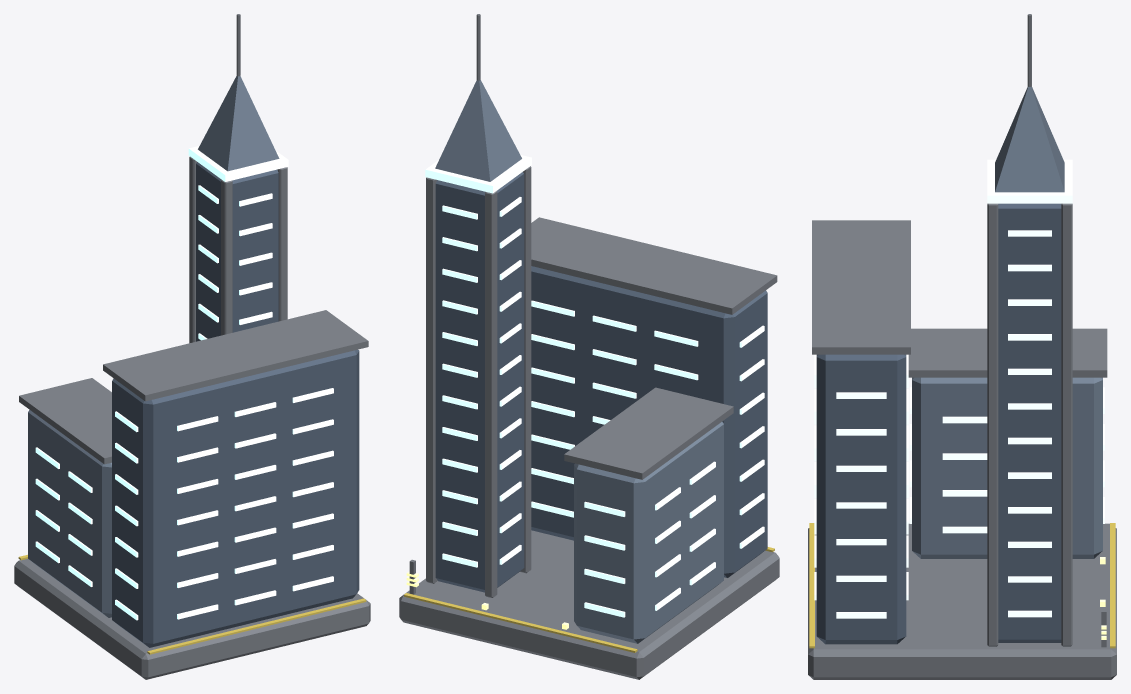
File: zone_high_6_t3.glb
3 views of the same model, side by side, from view 1: azimuth 30°, elevation 25°; view 2: azimuth 150°, elevation 25°; view 3: azimuth 270°, elevation 25° (orthographic). The views are drawn at different scales.
Parts seen in each view (by area): view 1: zone_high_6_t3, detail; view 2: zone_high_6_t3, detail; view 3: zone_high_6_t3, detail.
Boxes of the visible parts, x1,y1,x2,y2 form: zone_high_6_t3: [14, 76, 370, 679]; detail: [18, 14, 366, 654]; zone_high_6_t3: [399, 80, 779, 679]; detail: [404, 14, 774, 652]; zone_high_6_t3: [808, 86, 1116, 679]; detail: [809, 14, 1115, 648].
Size of the model in its own units: 27.5 by 63.38 by 27.5.
